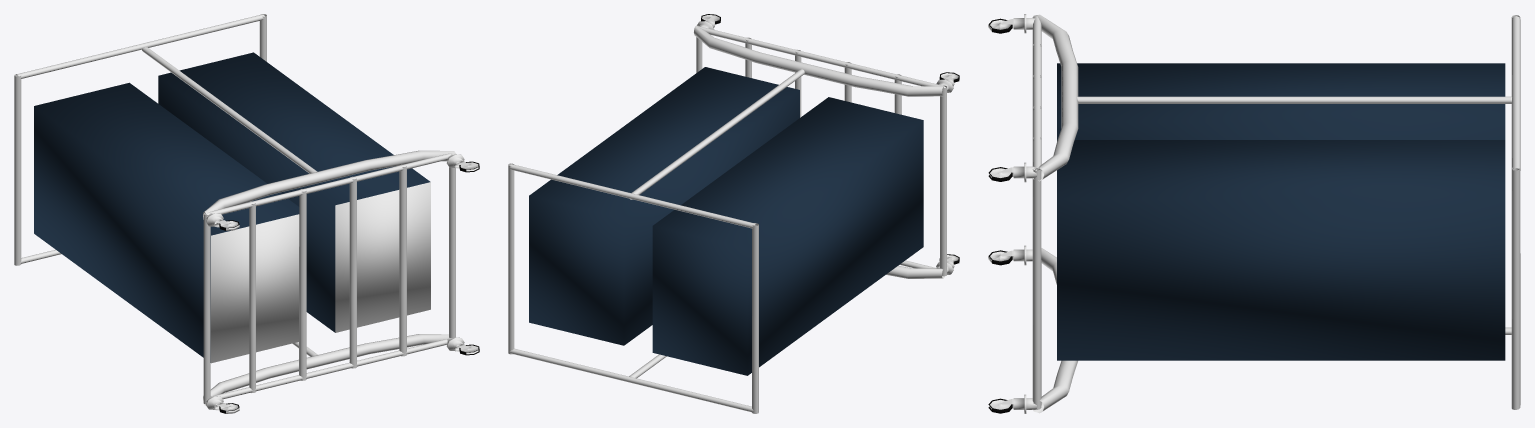
3 views of the same model, side by side, from view 1: azimuth 30°, elevation 25°; view 2: azimuth 150°, elevation 25°; view 3: azimuth 270°, elevation 25° (orthographic). The views are drawn at different scales.
Parts seen in each view (by area): view 1: Circle; view 2: Circle; view 3: Circle.
Boxes of the visible parts, bbox=[...] form: Circle: bbox=[14, 14, 479, 413]; Circle: bbox=[508, 14, 959, 413]; Circle: bbox=[988, 14, 1520, 413].
Size of the model in its own units: 94 by 67 by 130.
